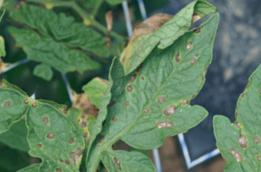Tomato Early blight leaf: (81, 0, 245, 172), (2, 93, 104, 172), (85, 136, 180, 172), (78, 0, 157, 24)
